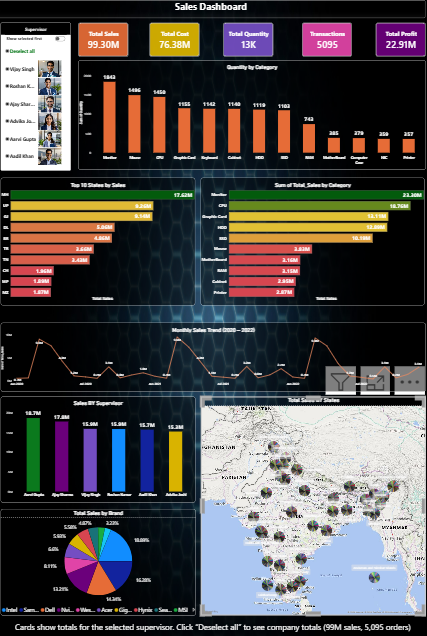

This screenshot's page, from the dashboard's own definition file:
{"tool":"powerbi","page":{"name":"Page 4","canvas":[1280,720],"ordinal":0},"visuals":[{"type":"textbox","box":[5,2.5,1267.5,72.5],"z":0},{"type":"columnChart","title":"Quantity by Category","fields":{"Category":["sales_data.Category"],"Y":["Sum(sales_data.Quantity)"]},"box":[224.9,86.1,882.5,233.8],"z":1000},{"type":"pieChart","title":"Total Sales by Brand","fields":{"Category":["sales_data.Brand"],"Y":["Sum(sales_data.Total_Sales)"]},"box":[725.3,331.3,382.9,381.4],"z":2000},{"type":"map","fields":{"Category":["state_data.State"],"Series":["sales_data.Sales"]},"box":[225.3,331.3,484.3,381.4],"z":3000},{"type":"cardVisual","fields":{"Data":["Sum(sales_data.Total_Sales)"]},"box":[1124.3,85.7,152.9,104.3],"z":4000},{"type":"cardVisual","fields":{"Data":["Sum(sales_data.Quantity)"]},"box":[1124.3,344.3,152.9,102.9],"z":5000},{"type":"cardVisual","fields":{"Data":["CountNonNull(sales_data.Order_Number)"]},"box":[1124.3,478.6,152.9,104.3],"z":6000},{"type":"cardVisual","fields":{"Data":["sales_data.Total Profit"]},"box":[1124.3,608.6,152.9,104.3],"z":7000},{"type":"cardVisual","fields":{"Data":["Sum(sales_data.Total_Cost)"]},"box":[1124.3,215.7,152.9,104.3],"z":8000},{"type":"listSlicer","fields":{"Values":["superviser.Supervisor"]},"box":[2.5,86.2,212.5,627.5],"z":9000}]}

Visuals, with their boxes on the page's 1280x720 design canvas (x1, y1, x2, y2). These are canvas units, not pixel positions in the 427x636 screenshot, which may show the page scaled, cropped or inside an application window:
textbox: (x1=5, y1=2, x2=1272, y2=75)
"Quantity by Category" columnChart: (x1=225, y1=86, x2=1107, y2=320)
"Total Sales by Brand" pieChart: (x1=725, y1=331, x2=1108, y2=713)
map - state_data.State x sales_data.Sales: (x1=225, y1=331, x2=710, y2=713)
cardVisual - Sum(sales_data.Total_Sales): (x1=1124, y1=86, x2=1277, y2=190)
cardVisual - Sum(sales_data.Quantity): (x1=1124, y1=344, x2=1277, y2=447)
cardVisual - CountNonNull(sales_data.Order_Number): (x1=1124, y1=479, x2=1277, y2=583)
cardVisual - sales_data.Total Profit: (x1=1124, y1=609, x2=1277, y2=713)
cardVisual - Sum(sales_data.Total_Cost): (x1=1124, y1=216, x2=1277, y2=320)
listSlicer - superviser.Supervisor: (x1=2, y1=86, x2=215, y2=714)
